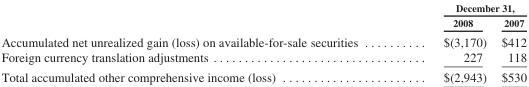table: (0, 1, 525, 84)
table column: (0, 1, 400, 84), (400, 1, 493, 84), (493, 1, 525, 84)
table column header: (0, 1, 525, 31)
table row: (0, 31, 525, 49), (0, 66, 525, 84), (0, 14, 525, 31), (0, 49, 525, 66), (0, 1, 525, 14)
table spanning cell: (400, 1, 525, 14)
